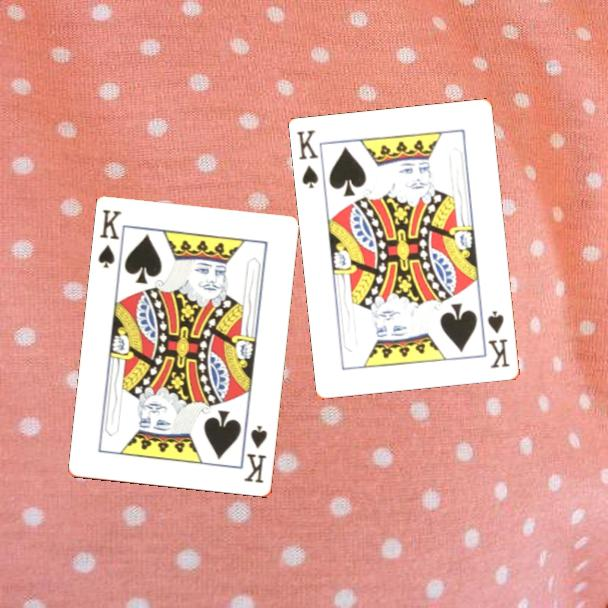s13: (95, 207, 125, 271), (293, 127, 322, 192), (241, 422, 270, 486), (484, 307, 512, 372)
